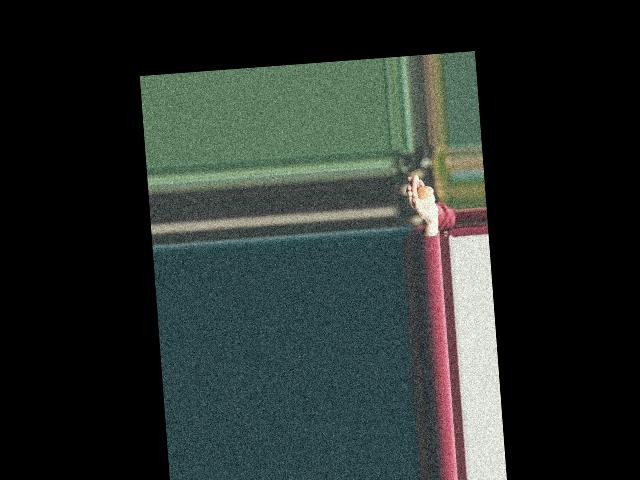egg: (417, 185, 433, 199)
